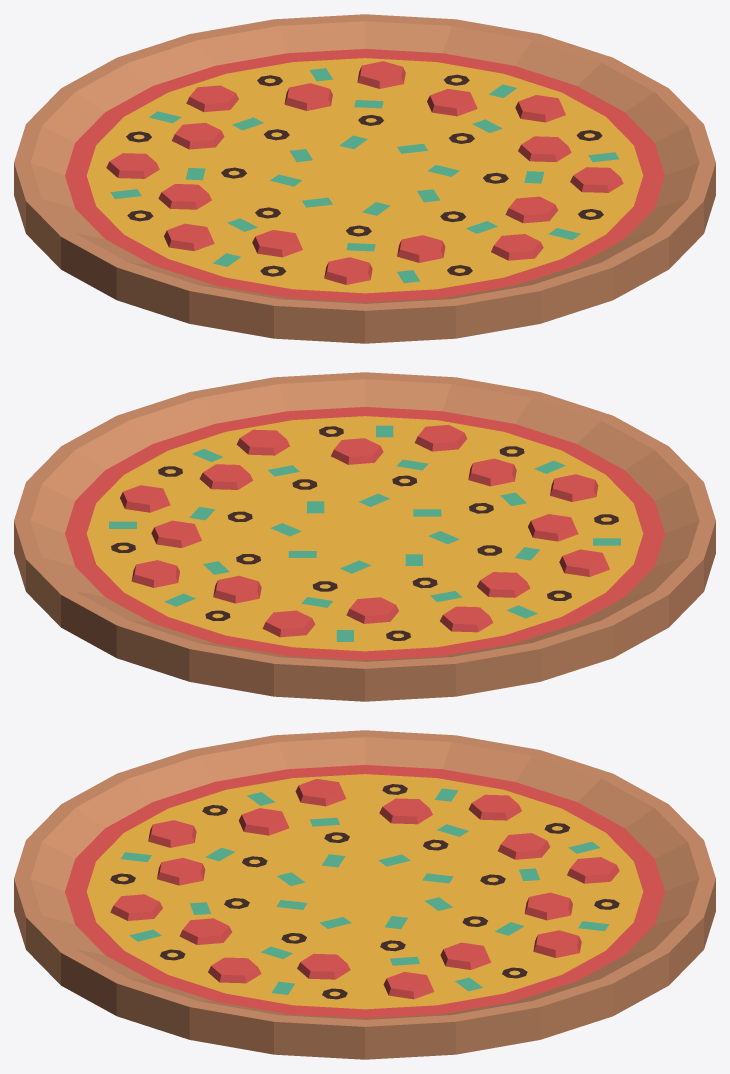
File: pizza.fbx
3 views of the same model, one above another, from view 1: azimuth 30°, elevation 25°; view 2: azimuth 150°, elevation 25°; view 3: azimuth 270°, elevation 25° (orthographic).
Visible parts, largest first — view 1: slice6, slice7, slice5, slice2, slice3, slice1, slice0, slice4; view 2: slice1, slice0, slice2, slice5, slice4, slice6, slice7, slice3; view 3: slice3, slice4, slice0, slice7, slice2, slice5, slice1, slice6.
Boxes of the visible parts, box(x1,y1,x2,y2) form: slice6: box(274, 176, 540, 343); slice7: box(61, 176, 364, 338); slice5: box(365, 175, 703, 323); slice2: box(190, 14, 455, 175); slice3: box(365, 19, 668, 175); slice1: box(26, 34, 364, 175); slice0: box(14, 124, 364, 268); slice4: box(366, 88, 715, 232); slice1: box(189, 534, 455, 701); slice0: box(365, 534, 668, 696); slice2: box(26, 533, 364, 681); slice5: box(274, 372, 539, 533); slice4: box(61, 377, 364, 533); slice6: box(365, 392, 703, 533); slice7: box(365, 482, 715, 626); slice3: box(14, 446, 363, 590); slice3: box(365, 892, 613, 1059); slice4: box(116, 892, 364, 1059); slice0: box(365, 730, 612, 891); slice7: box(117, 730, 364, 891); slice2: box(365, 878, 715, 1015); slice5: box(14, 878, 364, 1015); slice1: box(366, 774, 715, 891); slice6: box(14, 774, 363, 891).
Size of the model in its own units: 8.42 by 0.4347 by 8.42.
